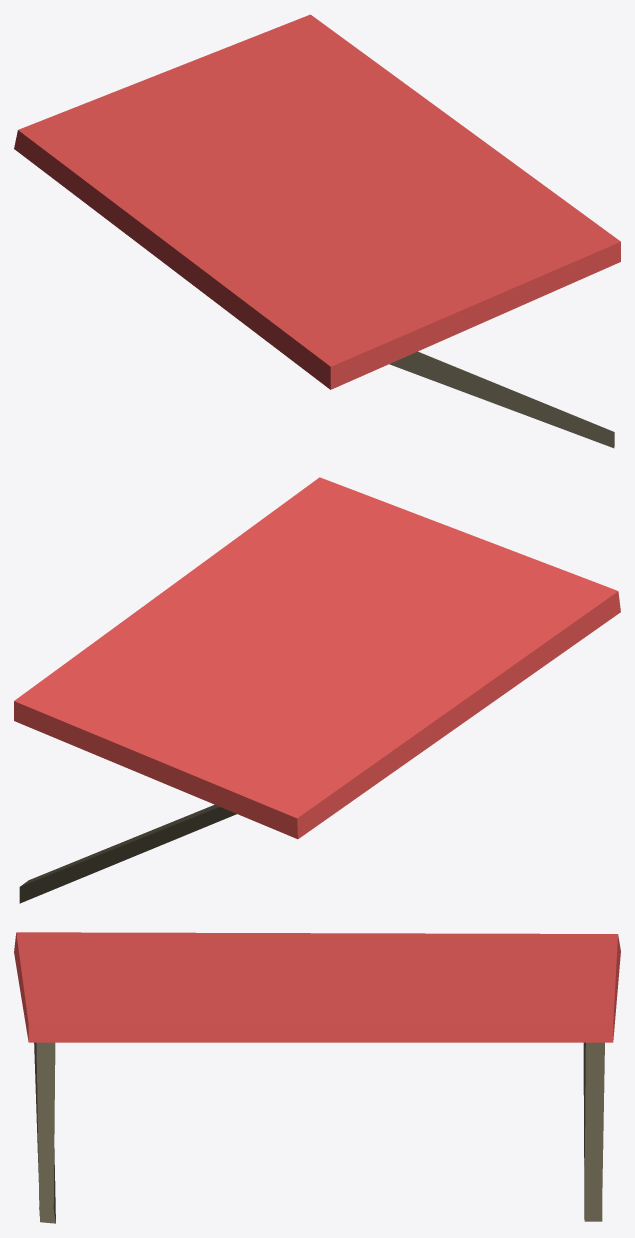
Rendered from Building_Veranda_Large.fbx.
The picture shows the model from 3 angles, top to bottom: view 1: azimuth 30°, elevation 25°; view 2: azimuth 150°, elevation 25°; view 3: azimuth 270°, elevation 25°; orthographic projection. The views are drawn at different scales.
Visible parts, largest first — view 1: Building_Veranda_Large; view 2: Building_Veranda_Large; view 3: Building_Veranda_Large.
Boxes of the visible parts, box(x1,y1,x2,y2) form: Building_Veranda_Large: box(14, 14, 620, 448); Building_Veranda_Large: box(14, 477, 620, 903); Building_Veranda_Large: box(14, 932, 620, 1223).
Size of the model in its own units: 947 by 647 by 1772.
